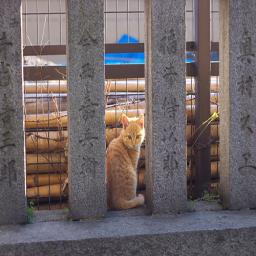catnose: (132, 142, 136, 148)
